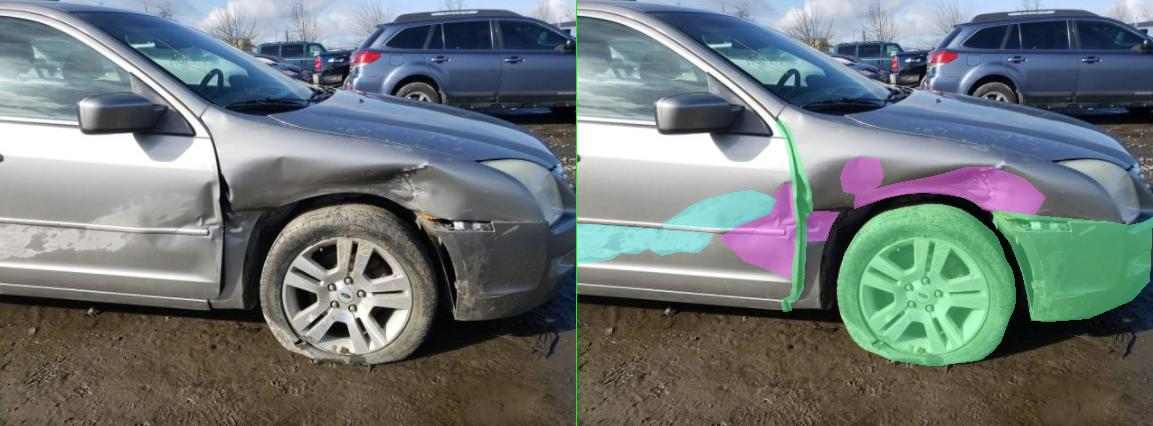Broken part: (520, 204, 877, 365), (833, 210, 1151, 321), (396, 118, 470, 311)
Corrosion: (833, 214, 871, 225)
Dent: (554, 167, 937, 219), (284, 182, 446, 279), (526, 157, 613, 193), (448, 211, 524, 242)
Flaking: (0, 224, 272, 263), (166, 190, 398, 228)
Scratch: (809, 174, 841, 210), (811, 165, 857, 173)
